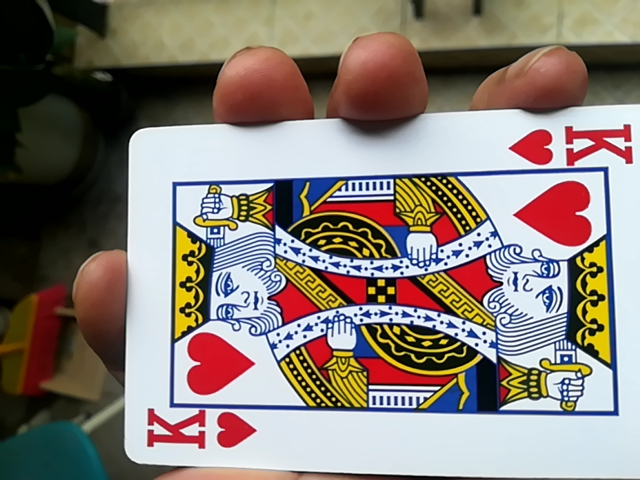hx k: (116, 117, 635, 480)
